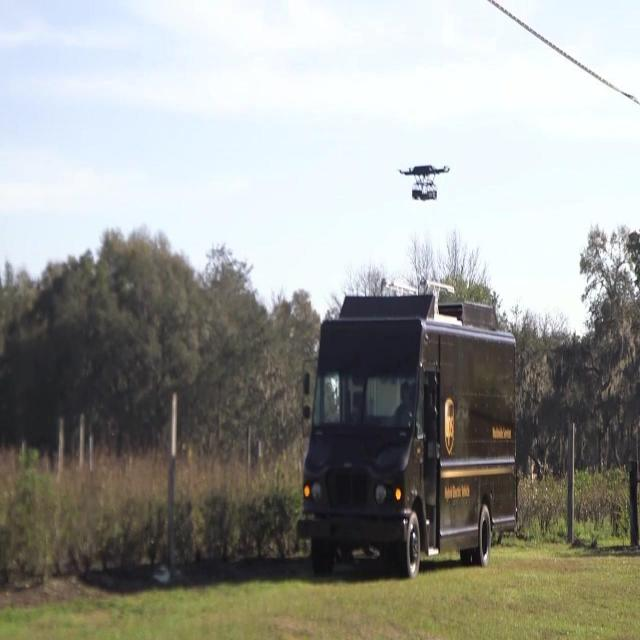UAV: (397, 165, 450, 201)
